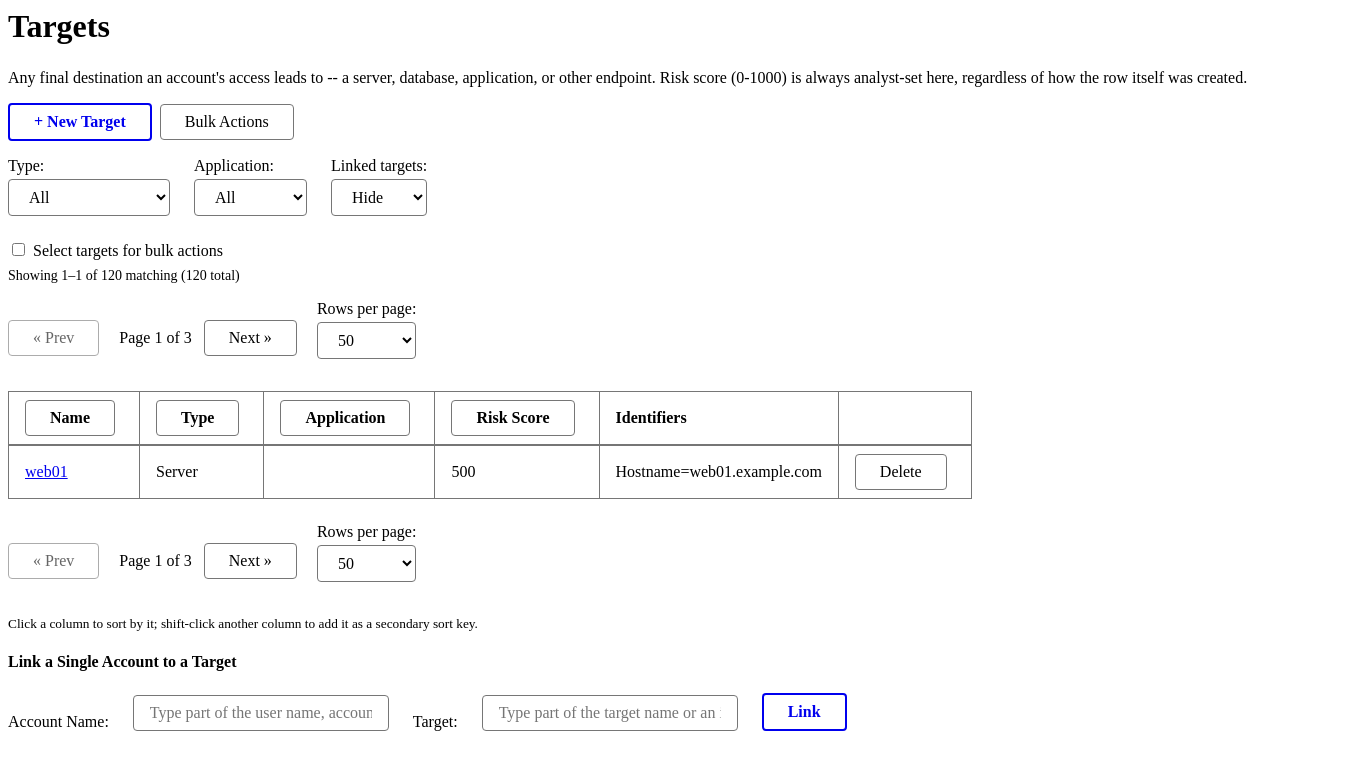
Targets.vue › clicking Next advances to page 2 and re-fetches with page=2
Click the 1st button "Next »" at (250, 338), box [204, 320, 297, 356]
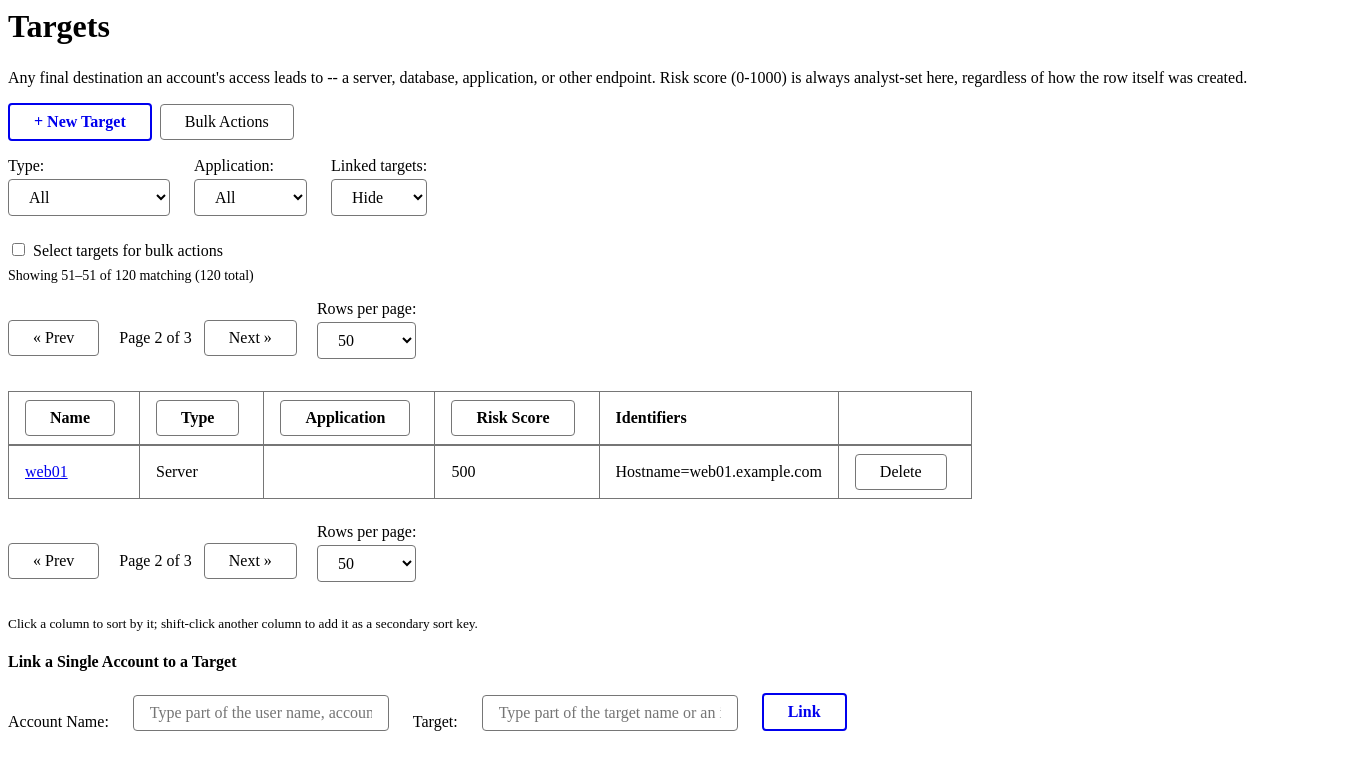
Now the text "Page 2 of" is shown, box [119, 328, 192, 346]
